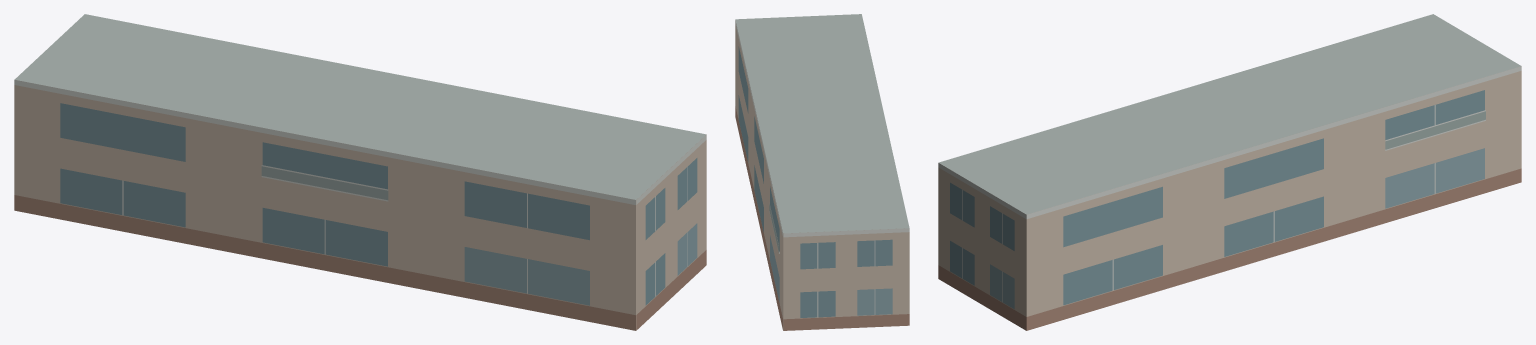
The model's file is survey-upis-33045645.glb.
3 views of the same model, side by side, from view 1: azimuth 30°, elevation 25°; view 2: azimuth 150°, elevation 25°; view 3: azimuth 270°, elevation 25° (orthographic). The views are drawn at different scales.
Visible parts, largest first — view 1: survey-upis-33045645.tmp; view 2: survey-upis-33045645.tmp; view 3: survey-upis-33045645.tmp.
Part boxes in pixels (left/top/right/bottom): survey-upis-33045645.tmp: left=14, top=14, right=706, bottom=330; survey-upis-33045645.tmp: left=735, top=14, right=909, bottom=330; survey-upis-33045645.tmp: left=938, top=14, right=1521, bottom=330.
Size of the model in its own units: 22.6 by 6.1 by 27.75.
